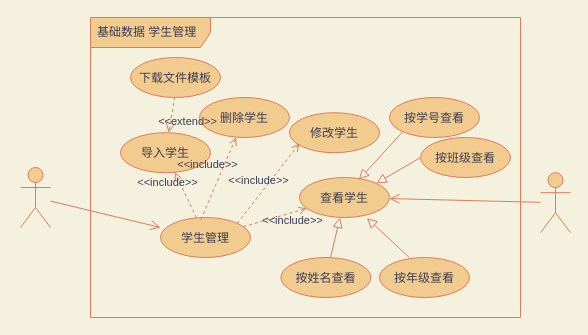
The diagram is 588 pixels wide and 335 high, and some of its shapes have lost their labels. The shapes that lost their labels are listed below. From the top down, each one's centre as x and y in pixels, then its label:
At (35,197): "管理员".
At (555,202): "教师".
